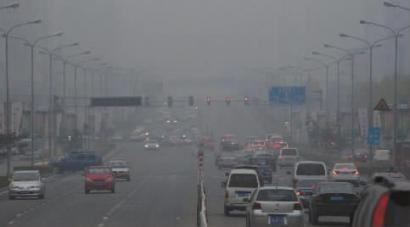car: (344, 172, 410, 226), (305, 180, 365, 225), (243, 186, 305, 227), (221, 168, 262, 217), (292, 161, 329, 202), (49, 149, 104, 172), (7, 169, 46, 199), (81, 166, 117, 194), (327, 161, 361, 184), (249, 156, 273, 182), (104, 160, 130, 181), (278, 147, 301, 169), (143, 138, 159, 150)
